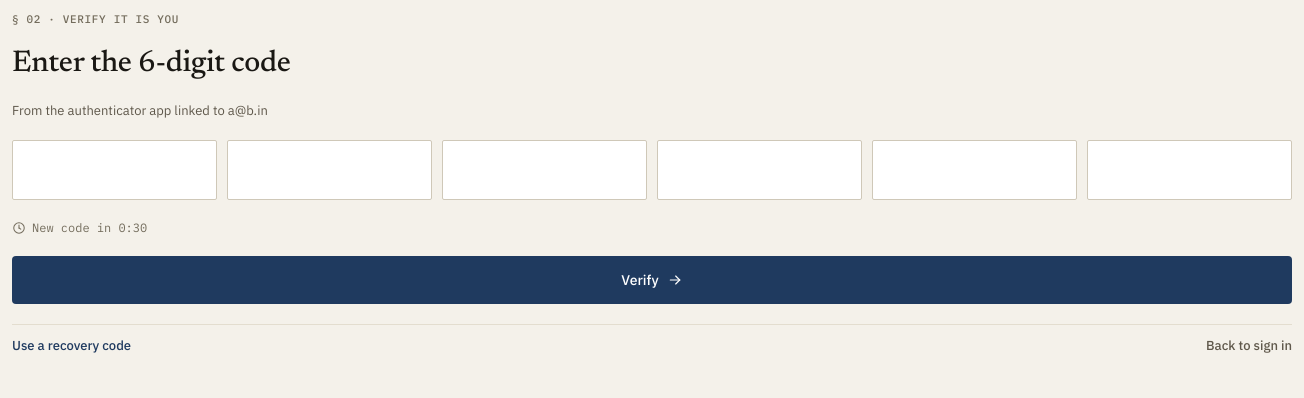
Test: VerifyForm › shows an error for a rejected code
This screenshot has width=1304, height=398.
Replace the text in the field named "6-digit code" with "000000". click: (652, 170)
box: [12,140,1292,200]
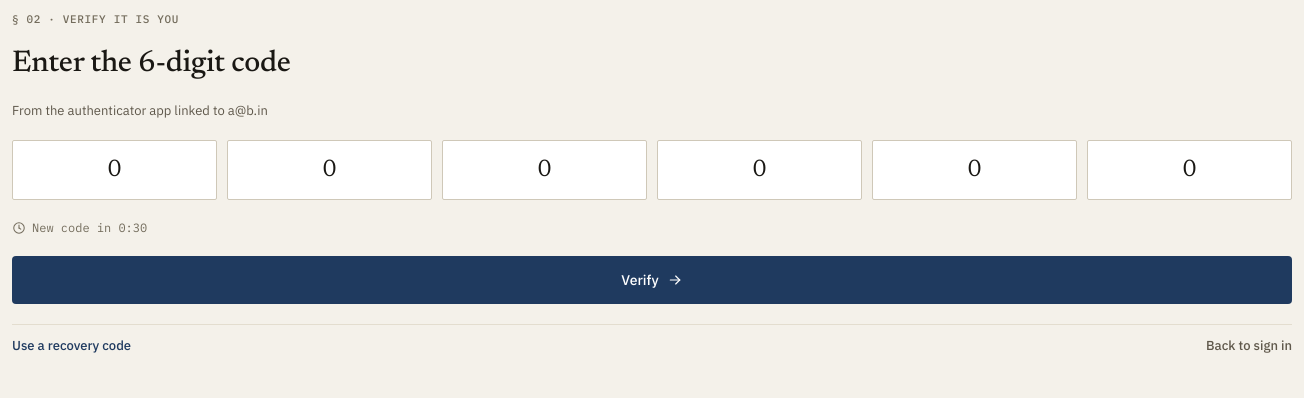
Click the button "Verify". click: (652, 280)
box: [12,256,1292,304]
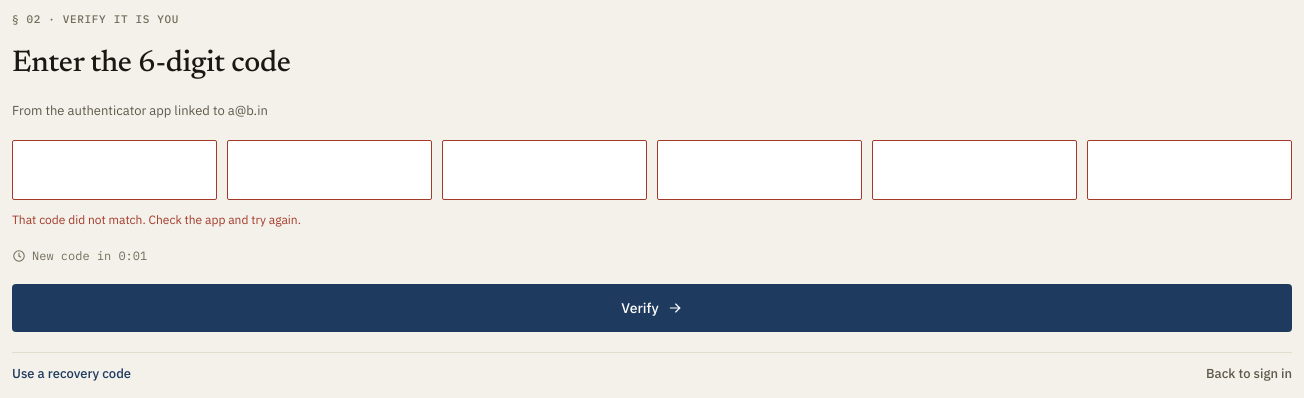
Result: the message "That code did not match. Check the app and try again." is shown at [12,212,301,227]
